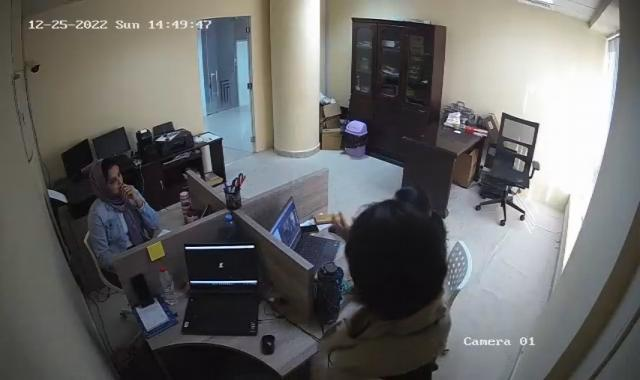no_hairnet: (350, 200, 445, 318), (88, 159, 122, 196)
